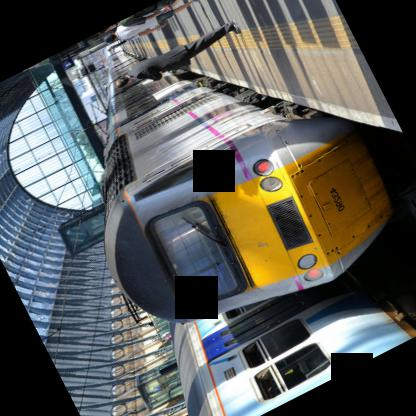backpack: (118, 1, 156, 24)
